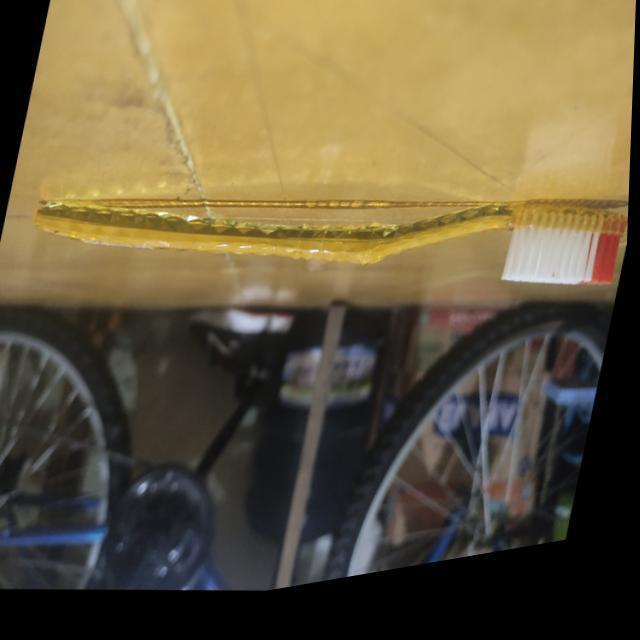toothbrush: (9, 88, 635, 436)
